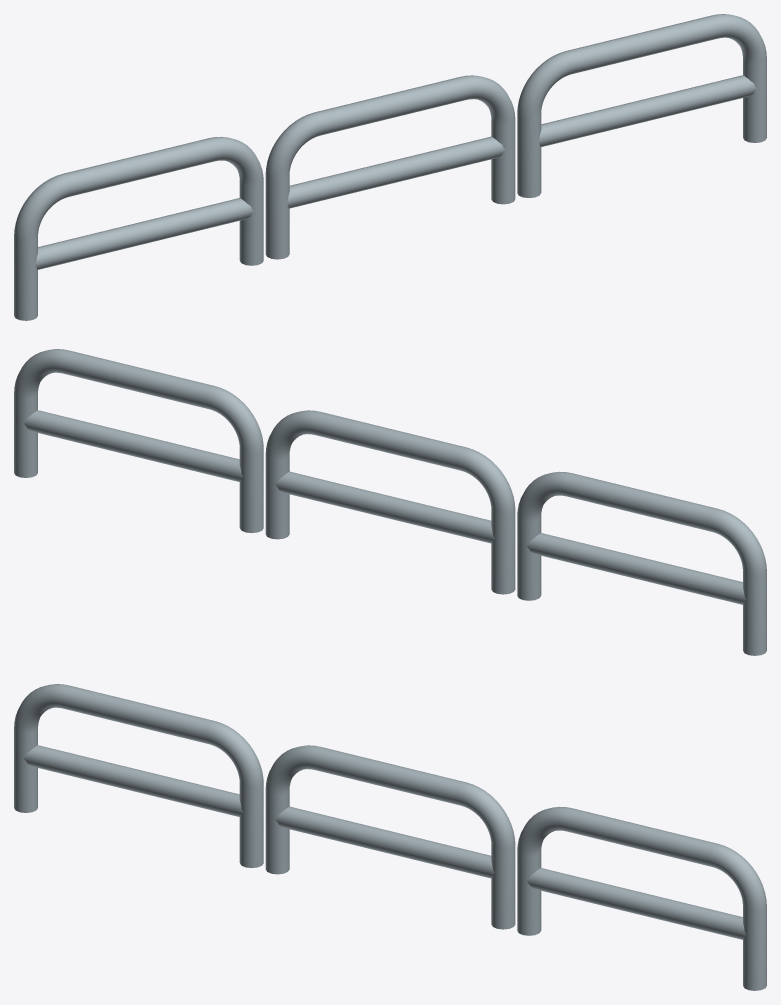
The model's file is barrier.glb.
The picture shows the model from 3 angles, top to bottom: view 1: azimuth 30°, elevation 25°; view 2: azimuth 150°, elevation 25°; view 3: azimuth 330°, elevation 25°; orthographic projection.
Parts seen in each view (by area): view 1: barrierSmall; view 2: barrierSmall; view 3: barrierSmall.
Boxes of the visible parts, x1,y1,x2,y2 form: barrierSmall: (14, 14, 766, 320); barrierSmall: (14, 349, 766, 655); barrierSmall: (14, 684, 766, 990).
Size of the model in its own units: 1.49 by 0.25 by 0.0413.
